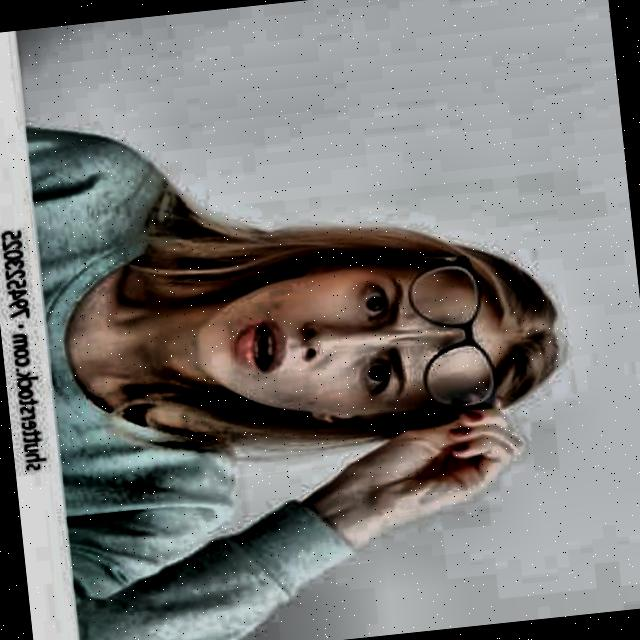surprised: (169, 230, 560, 455)
